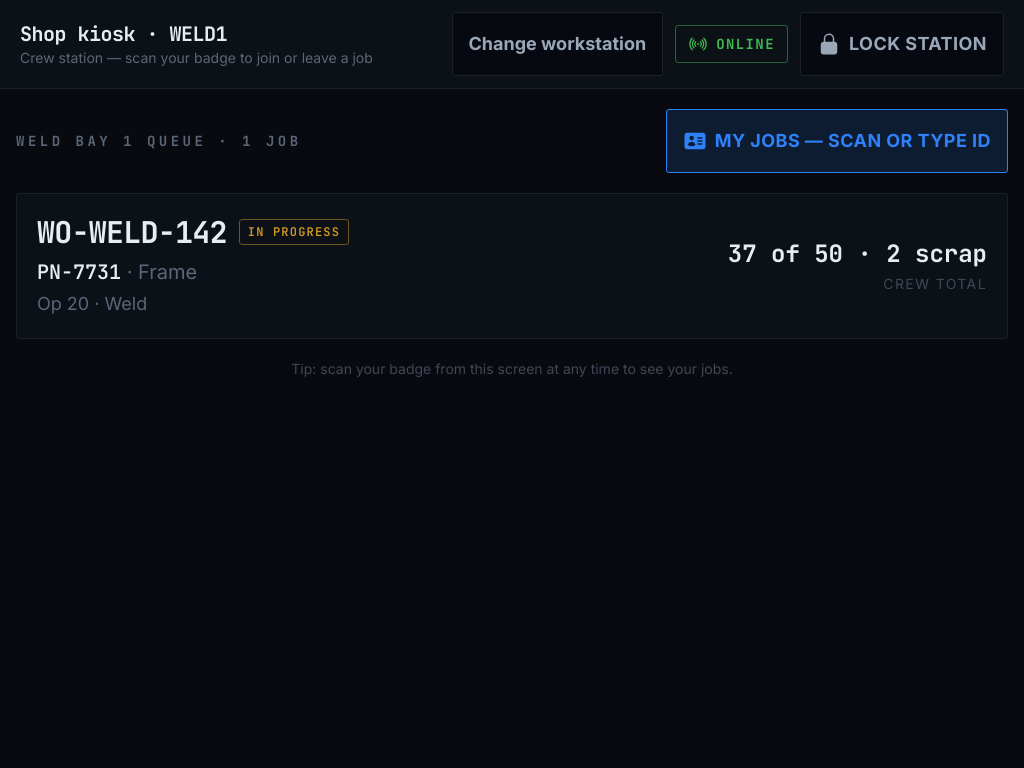
it: CrewStationKiosk workstation selection › keeps a refused selection open and returns to the original workstation when cancelled
Check: the button "WO-WELD-142" is shown, box x1=16 y1=193 x2=1008 y2=339
Click the button "Change workstation" at (557, 44), box x1=452 y1=12 x2=663 y2=76
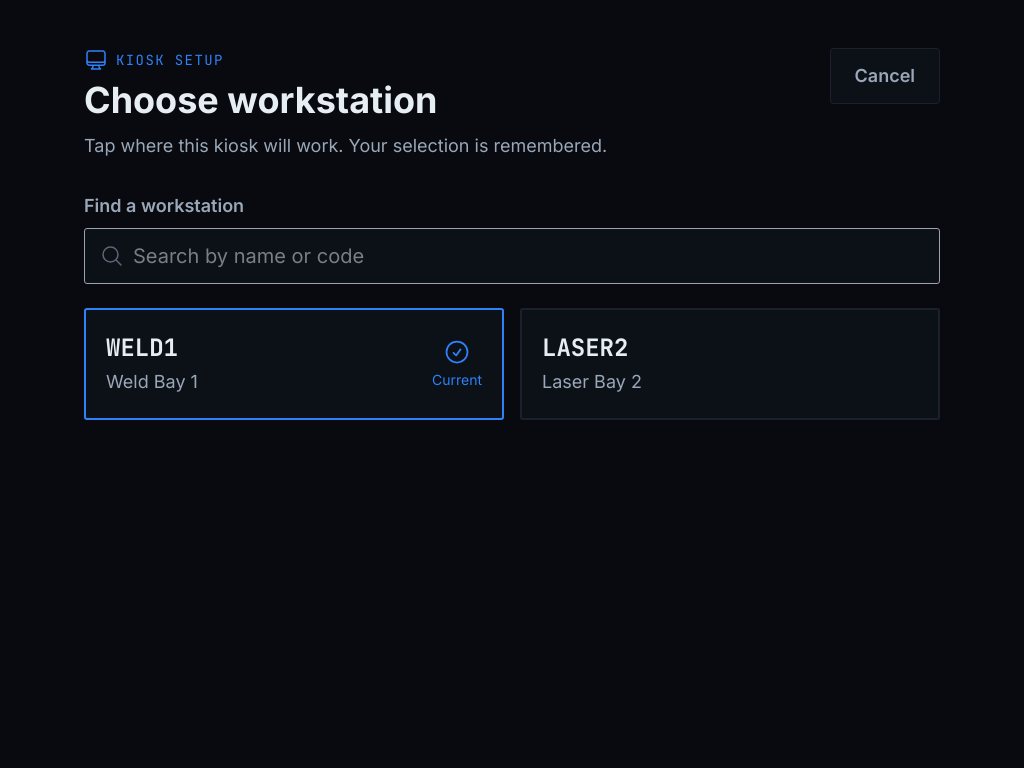
Check: the heading "Choose workstation" is shown, box x1=84 y1=78 x2=438 y2=122
Click the button "LASER2 Laser Bay 2" at (585, 348), box x1=520 y1=308 x2=940 y2=420
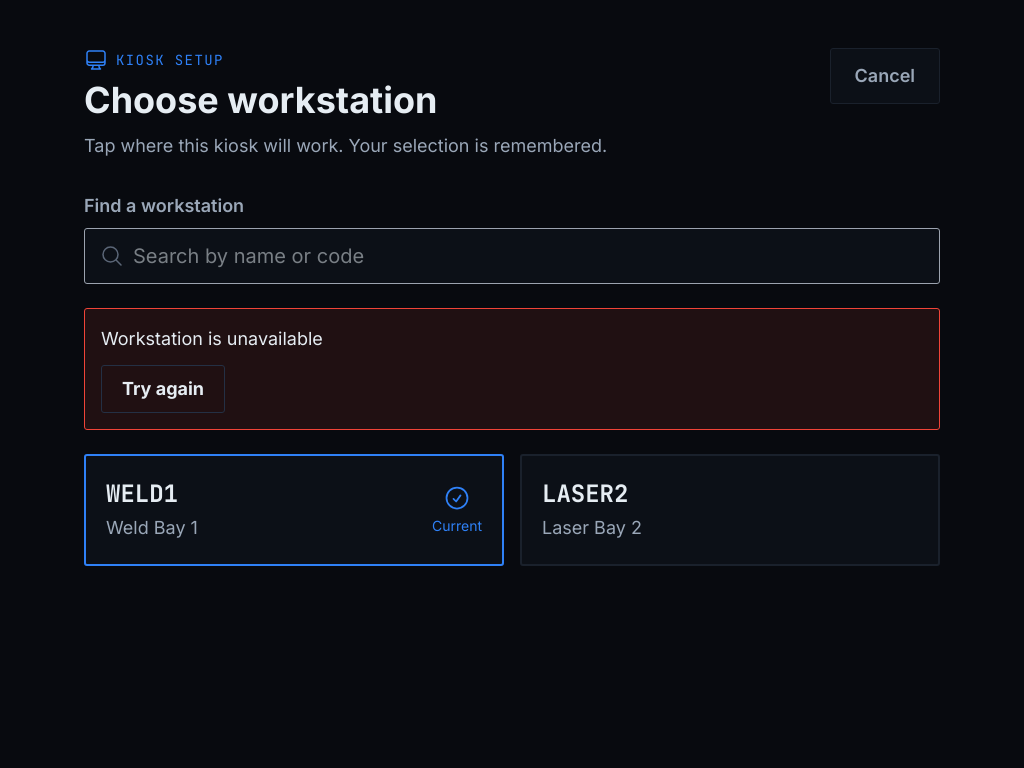
Check: the heading "Choose workstation" is shown, box x1=84 y1=78 x2=438 y2=122
Check: the message shows "Workstation is unavailable", box x1=101 y1=328 x2=323 y2=349
Click the button "Cancel" at (885, 76), box x1=830 y1=48 x2=940 y2=104
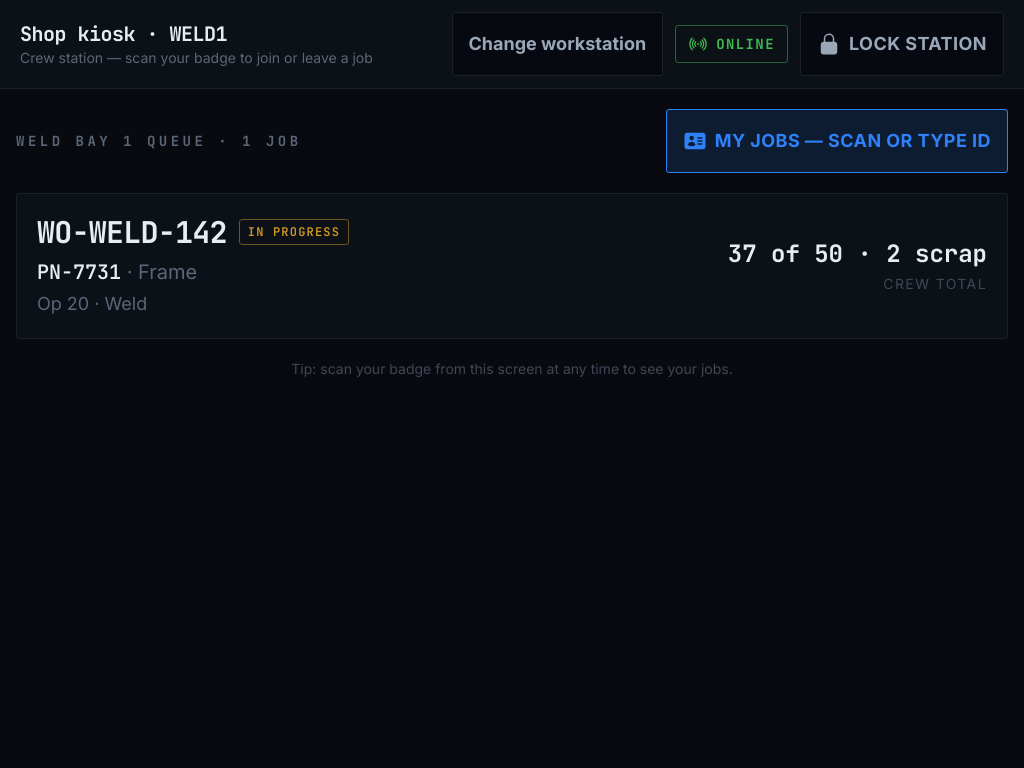
Check: the button "WO-WELD-142" is shown, box x1=16 y1=193 x2=1008 y2=339
Check: the text "Shop kiosk · WELD1" is shown, box x1=20 y1=21 x2=227 y2=47
